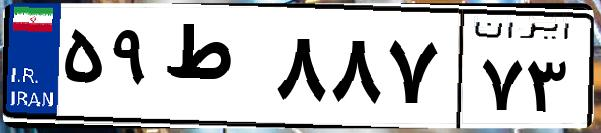3: (525, 38, 570, 115)
5: (57, 26, 110, 100)
7: (385, 28, 445, 110), (475, 38, 525, 113)
8: (270, 28, 330, 110), (330, 28, 385, 110)
9: (110, 28, 158, 98)
ط: (158, 20, 270, 120)
